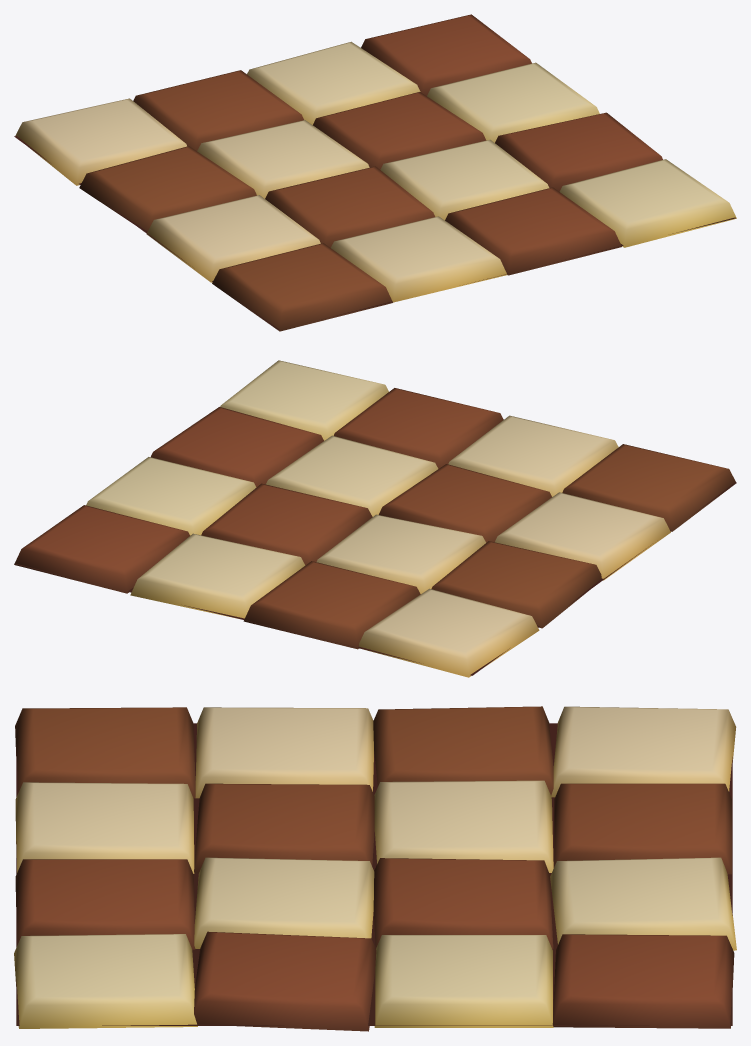
The model's file is KitchenTiles_M.fbx.
3 renders of one model, top to bottom at view 1: azimuth 30°, elevation 25°; view 2: azimuth 150°, elevation 25°; view 3: azimuth 270°, elevation 25°, orthographic. The views are drawn at different scales.
Parts seen in each view (by area): view 1: KitchenTileUnderplane; view 2: KitchenTileUnderplane; view 3: KitchenTileUnderplane.
Boxes of the visible parts, <box> form: KitchenTileUnderplane: <box>14,14,736,331</box>; KitchenTileUnderplane: <box>14,360,736,677</box>; KitchenTileUnderplane: <box>14,706,736,1031</box>.
Bounding box in the file's own units: 0.089 × 2.02 × 2.02.
